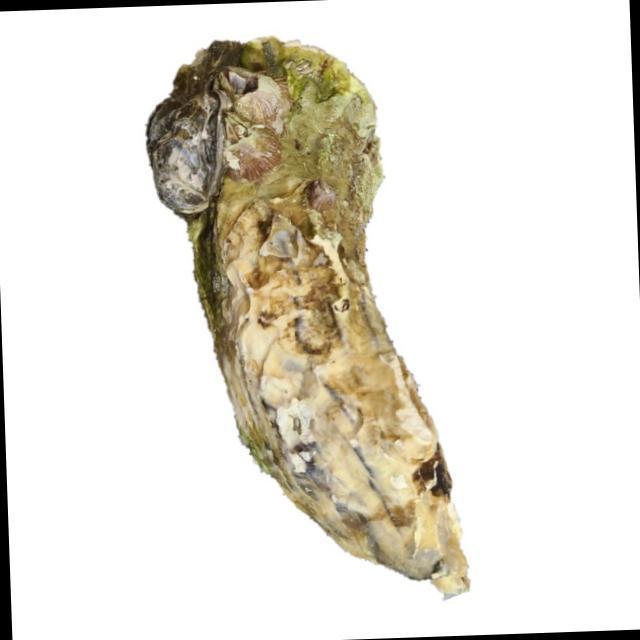Oyster- Indeterminate: (143, 38, 472, 601)
